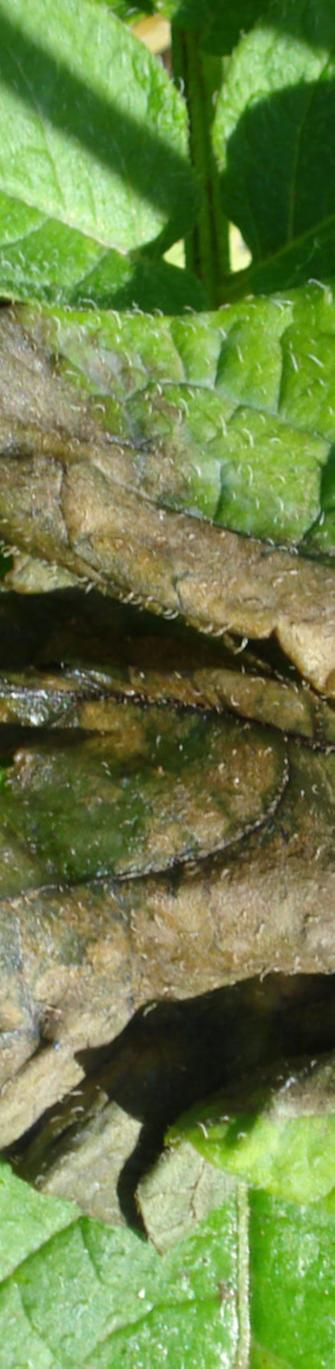Tomato leaf late blight: (0, 230, 335, 1303)
